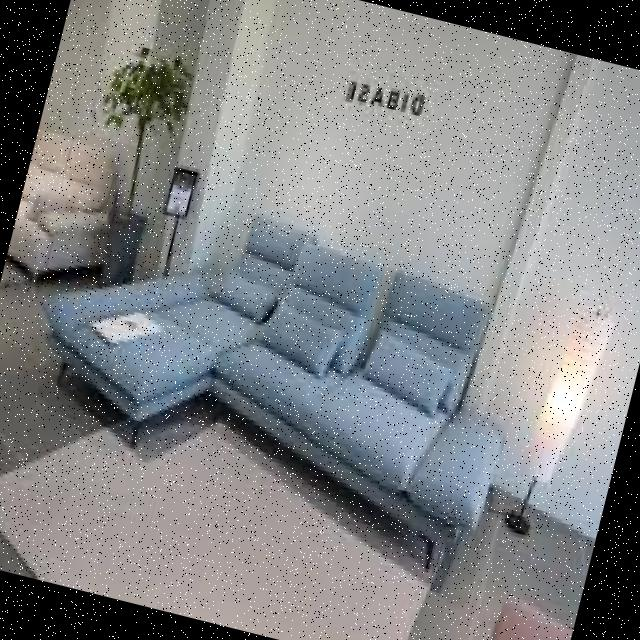Sofa: (0, 139, 568, 640)
